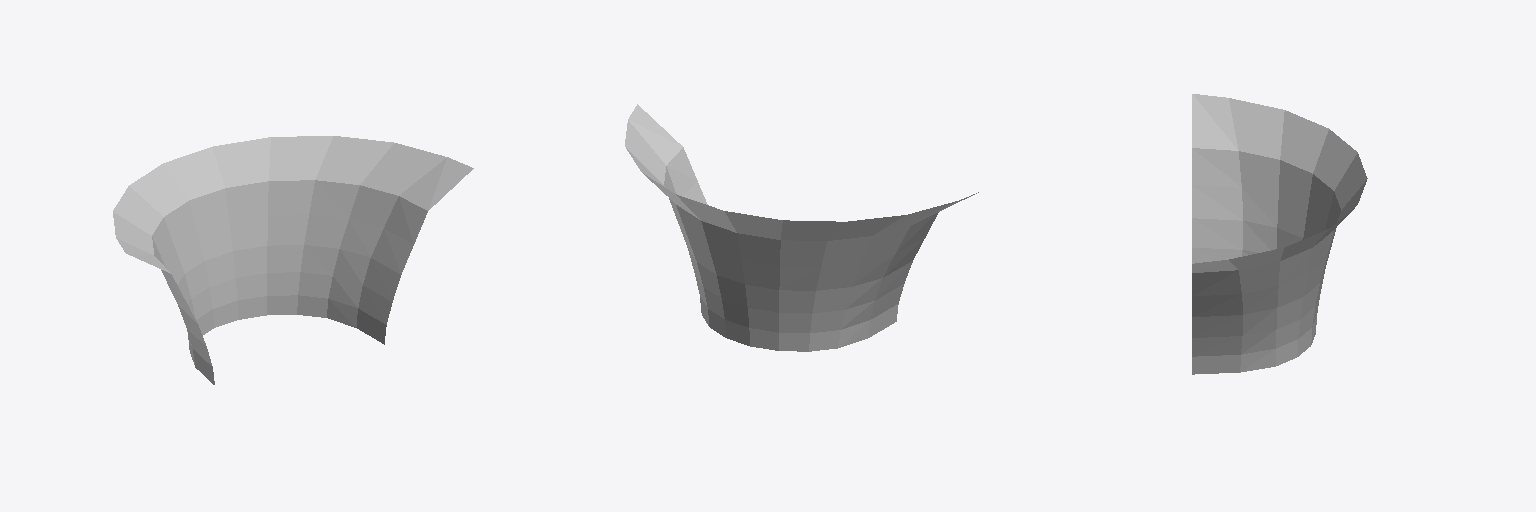
Rendered from ArcMesh1.obj.
3 renders of one model, left to right at view 1: azimuth 30°, elevation 25°; view 2: azimuth 150°, elevation 25°; view 3: azimuth 270°, elevation 25°, orthographic.
Visible parts, largest first — view 1: pCylinder1; view 2: pCylinder1; view 3: pCylinder1.
Part boxes in pixels (left/top/right/bottom): pCylinder1: left=113, top=136, right=473, bottom=384; pCylinder1: left=625, top=104, right=978, bottom=351; pCylinder1: left=1192, top=94, right=1367, bottom=374.
Size of the model in its own units: 2.95 by 1.25 by 1.28.